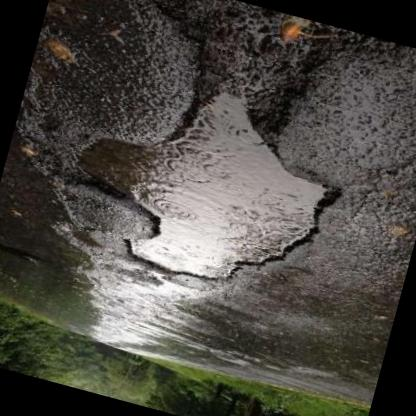pothole: (50, 62, 363, 318)
